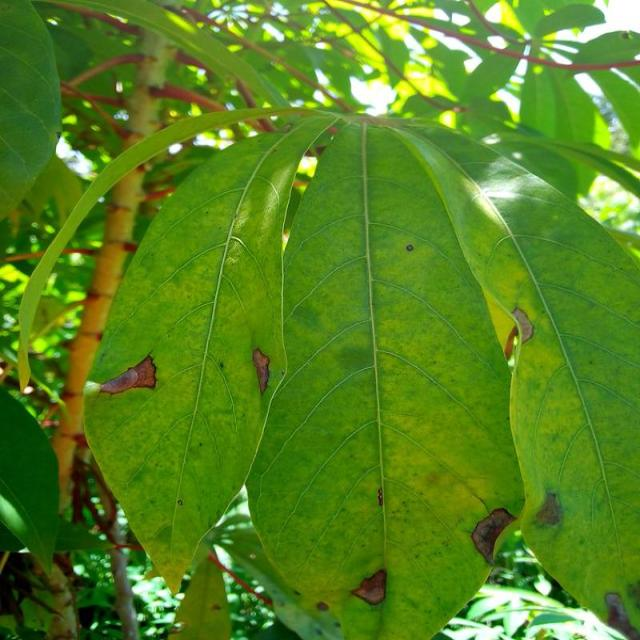cassava leaf: (82, 111, 640, 638), (81, 112, 342, 596)
